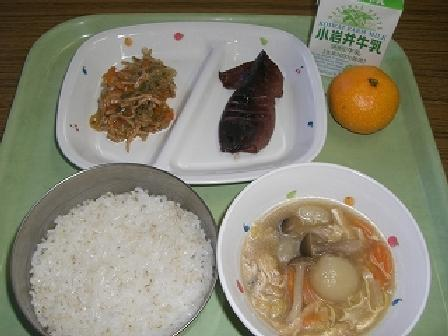Citrus: (323, 64, 412, 135)
Fish: (203, 44, 300, 162)
Milk: (303, 0, 412, 73)
Rice: (3, 167, 219, 335)
salad with sauce: (84, 45, 197, 150)
vegetable soup: (218, 168, 435, 335)
